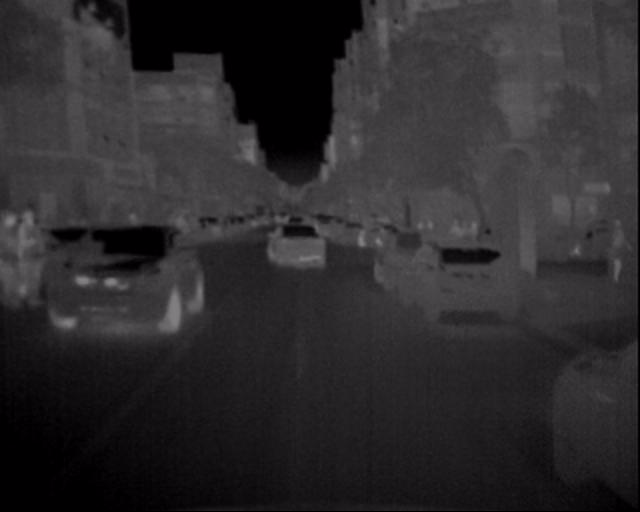person: (4, 202, 55, 313), (609, 217, 633, 289)
